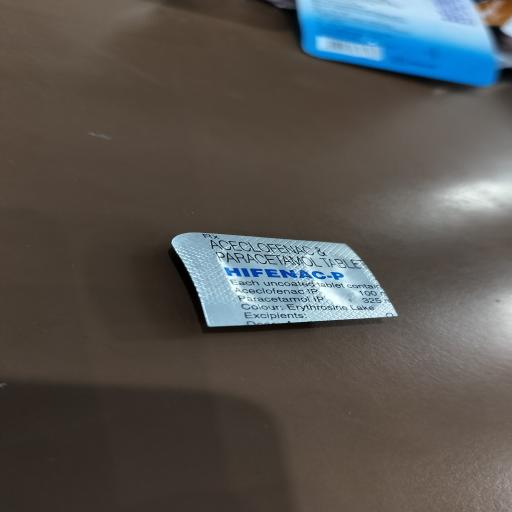hifenac-p: (227, 263, 351, 282)
medicine: (182, 238, 400, 320)
